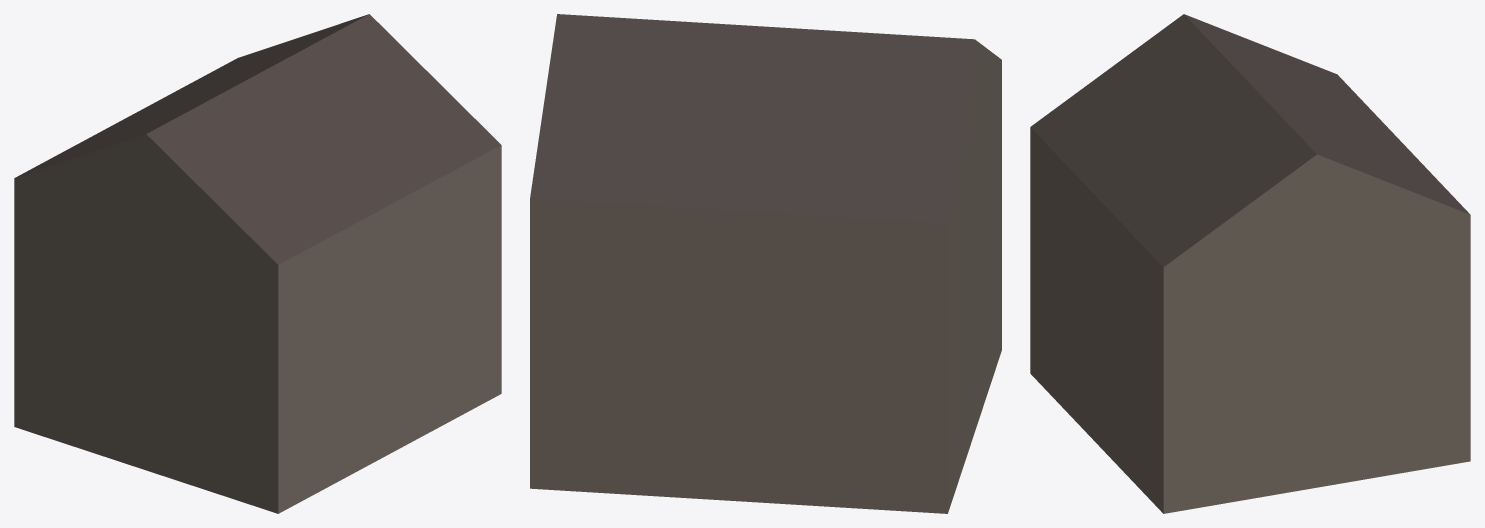
3 views of the same model, side by side, from view 1: azimuth 30°, elevation 25°; view 2: azimuth 150°, elevation 25°; view 3: azimuth 270°, elevation 25° (orthographic). The views are drawn at different scales.
Parts seen in each view (by area): view 1: HP-w1200814979; view 2: HP-w1200814979; view 3: HP-w1200814979.
Boxes of the visible parts, left/top/right/bottom form: HP-w1200814979: left=14, top=14, right=501, bottom=513; HP-w1200814979: left=530, top=14, right=1001, bottom=513; HP-w1200814979: left=1030, top=14, right=1470, bottom=513.
Size of the model in its own units: 10.07 by 8.11 by 9.71.
